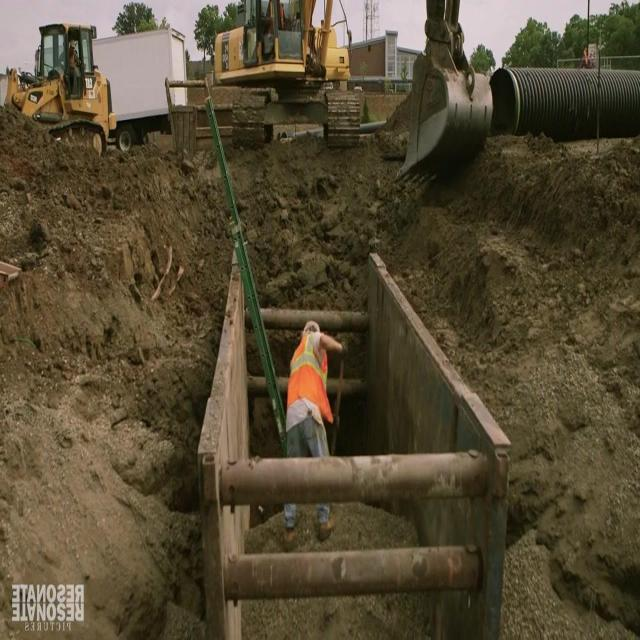Reflective-Jacket: (284, 330, 338, 434)
